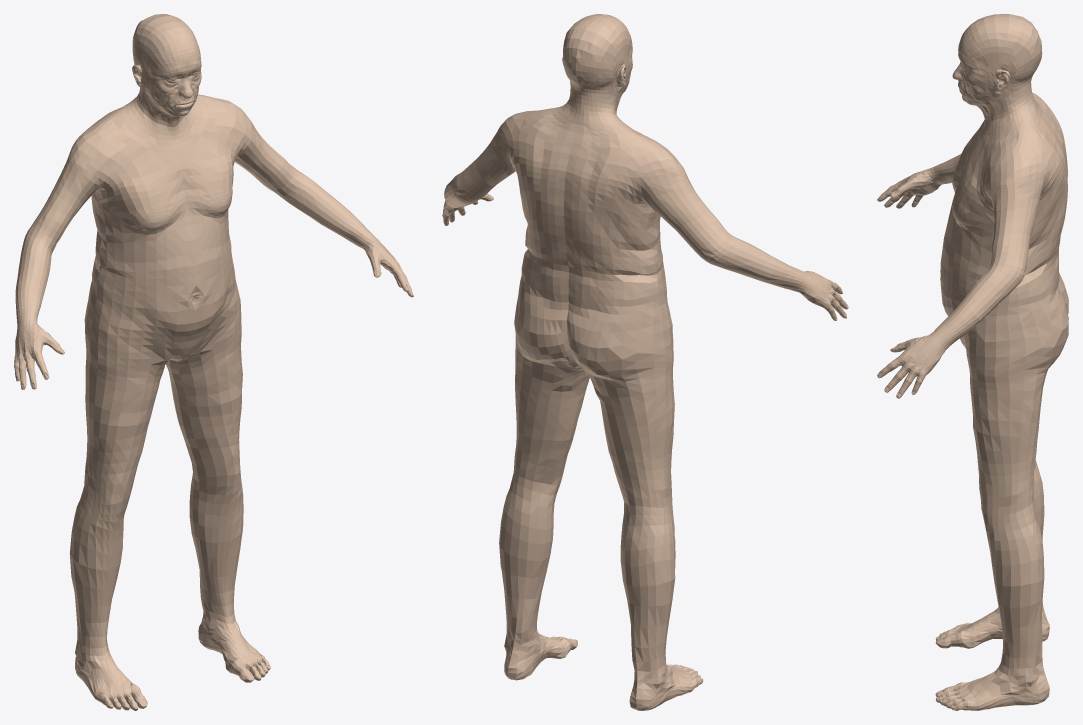
File: male-elder-heavy-low.glb
3 views of the same model, side by side, from view 1: azimuth 30°, elevation 25°; view 2: azimuth 150°, elevation 25°; view 3: azimuth 270°, elevation 25° (orthographic).
Visible parts, largest first — view 1: world; view 2: world; view 3: world.
Boxes of the visible parts, x1,y1,x2,y2 form: world: (14, 14, 413, 710); world: (442, 14, 848, 710); world: (877, 14, 1068, 710).
Size of the model in its own units: 1.2 by 1.92 by 0.509.
